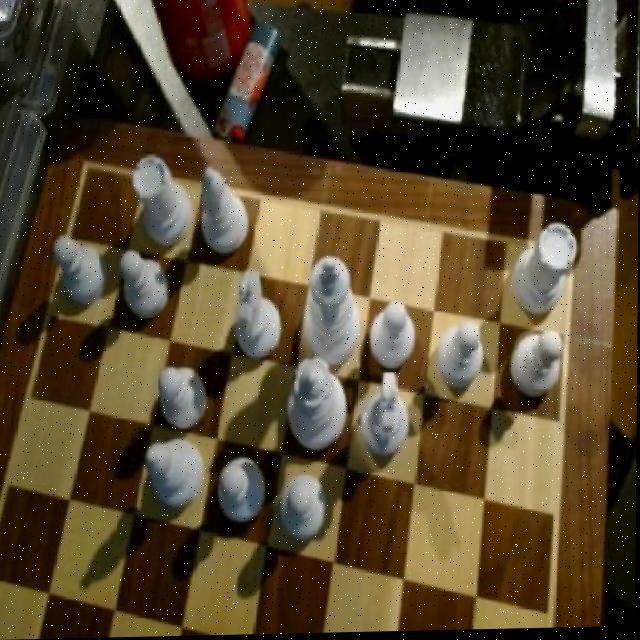black-rook: (143, 435, 209, 512), (197, 168, 249, 254)
white-bishop: (306, 257, 362, 365)
white-king: (232, 271, 285, 364), (363, 374, 415, 460)
white-knight: (55, 230, 111, 307), (123, 246, 176, 322), (159, 364, 212, 432), (513, 329, 564, 397), (222, 457, 270, 525), (439, 324, 486, 390), (372, 305, 417, 369), (283, 479, 327, 544)
white-queen: (132, 151, 194, 248), (517, 223, 575, 325)
